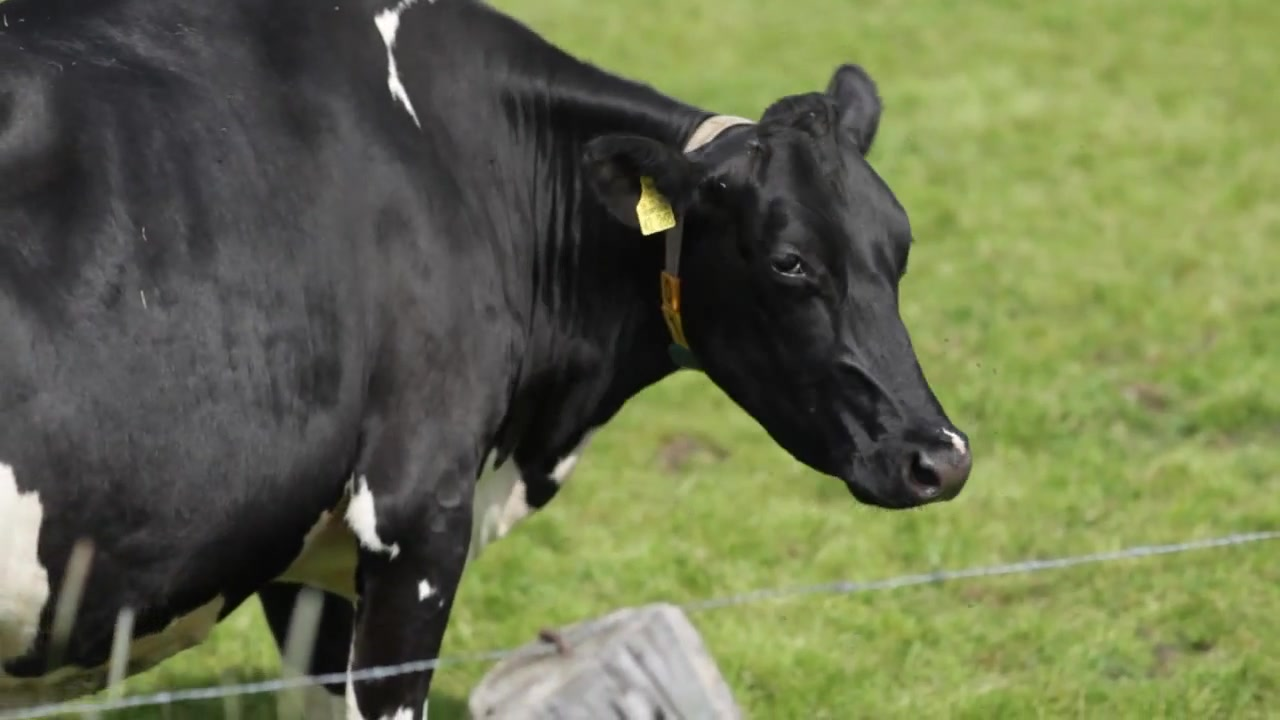cow: (1, 1, 974, 720)
